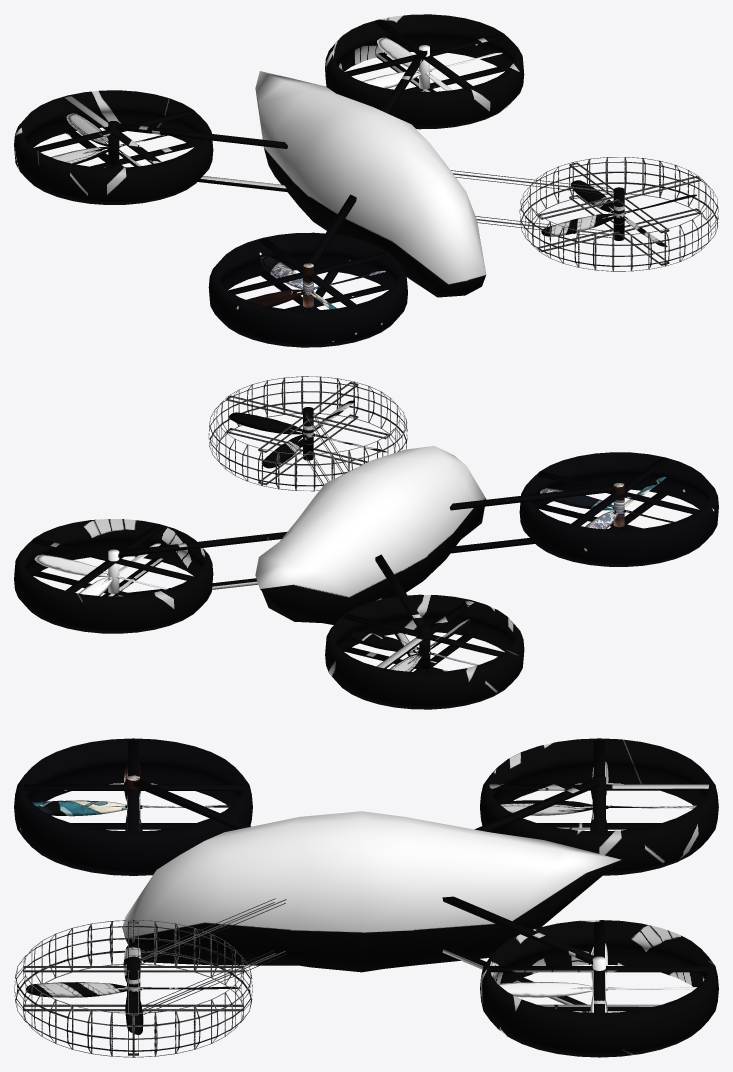
The model's file is dolone.obj.
3 views of the same model, one above another, from view 1: azimuth 30°, elevation 25°; view 2: azimuth 150°, elevation 25°; view 3: azimuth 270°, elevation 25° (orthographic). The views are drawn at different scales.
Parts seen in each view (by area): view 1: 球.016, 球.002, 球.007, 球.037, 球.024; view 2: 球.016, 球.002, 球.037, 球.024, 球.007; view 3: 球.016, 球.002, 球.024, 球.007, 球.037.
Part boxes in pixels (bbox=[...]): 球.016: bbox=[14, 14, 718, 347]; 球.002: bbox=[541, 180, 696, 246]; 球.007: bbox=[246, 256, 385, 310]; 球.037: bbox=[51, 113, 191, 167]; 球.024: bbox=[362, 37, 502, 91]; 球.016: bbox=[14, 376, 718, 709]; 球.002: bbox=[229, 400, 387, 468]; 球.037: bbox=[346, 619, 478, 672]; 球.024: bbox=[34, 543, 168, 596]; 球.007: bbox=[540, 476, 674, 529]; 球.016: bbox=[14, 738, 718, 1057]; 球.002: bbox=[26, 942, 240, 1034]; 球.024: bbox=[498, 943, 696, 1012]; 球.007: bbox=[32, 762, 231, 831]; 球.037: bbox=[497, 761, 696, 831].
Size of the model in its own units: 16.7 by 3.81 by 17.6.
